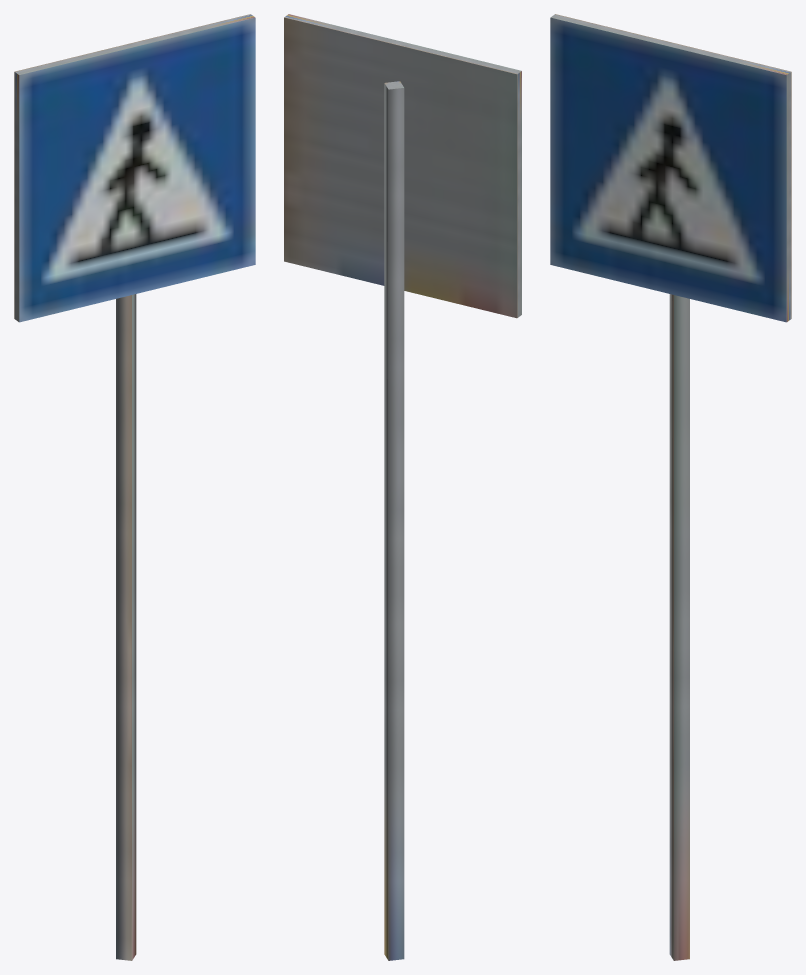
File: panneau_passage_pieton_lod2.glb
3 views of the same model, side by side, from view 1: azimuth 30°, elevation 25°; view 2: azimuth 150°, elevation 25°; view 3: azimuth 330°, elevation 25° (orthographic).
Parts seen in each view (by area): view 1: panneau_passage_pieton; view 2: panneau_passage_pieton; view 3: panneau_passage_pieton.
Boxes of the visible parts, left/top/right/bottom form: panneau_passage_pieton: left=14, top=14, right=255, bottom=960; panneau_passage_pieton: left=284, top=14, right=521, bottom=960; panneau_passage_pieton: left=550, top=14, right=791, bottom=960.
Size of the model in its own units: 0.7 by 2.6 by 0.0875.
Materials: 1 (1 with a texture image).
